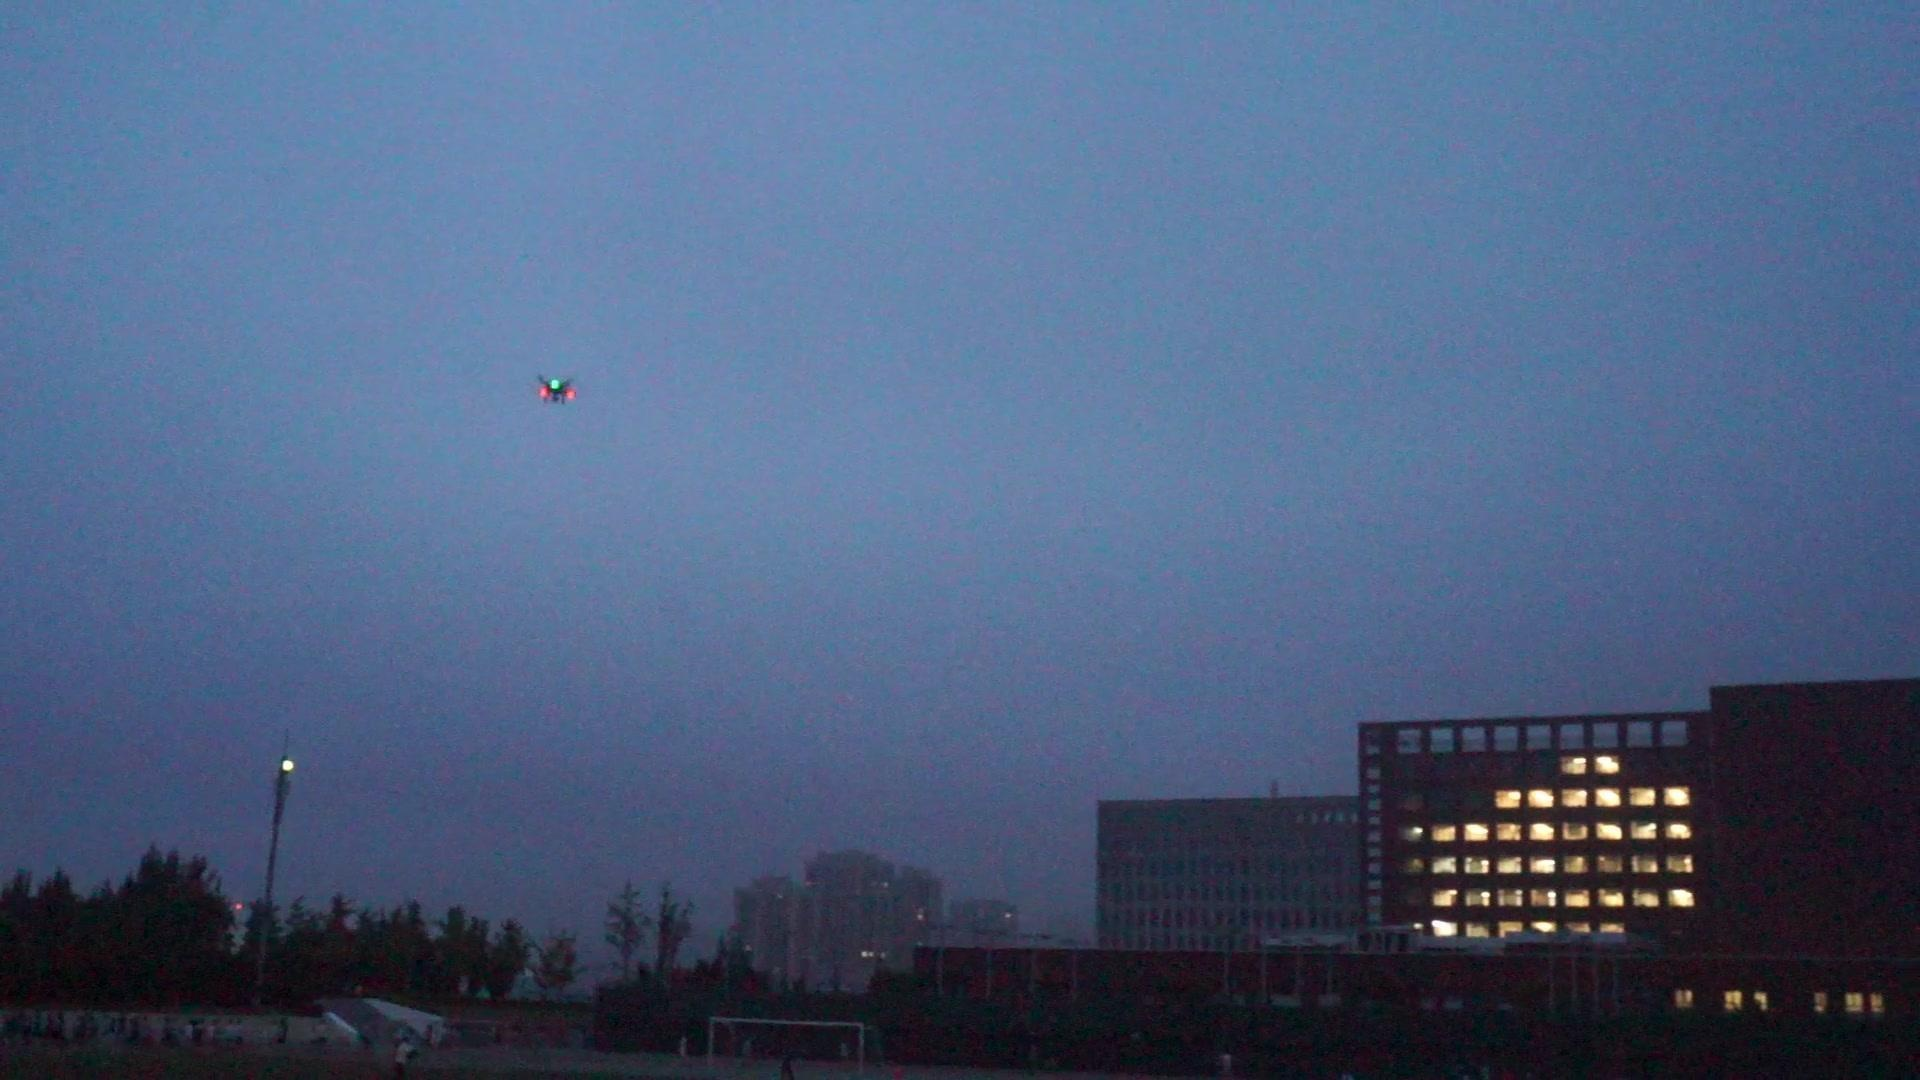UAV: (537, 375, 578, 406)
